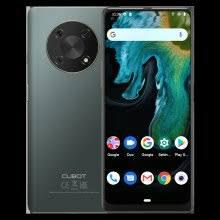Smartphone: (100, 7, 193, 213), (23, 8, 113, 213)
